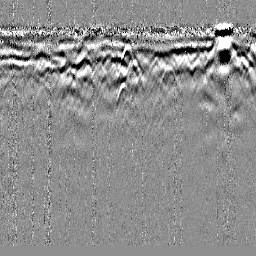cavity: (117, 42, 138, 69)
